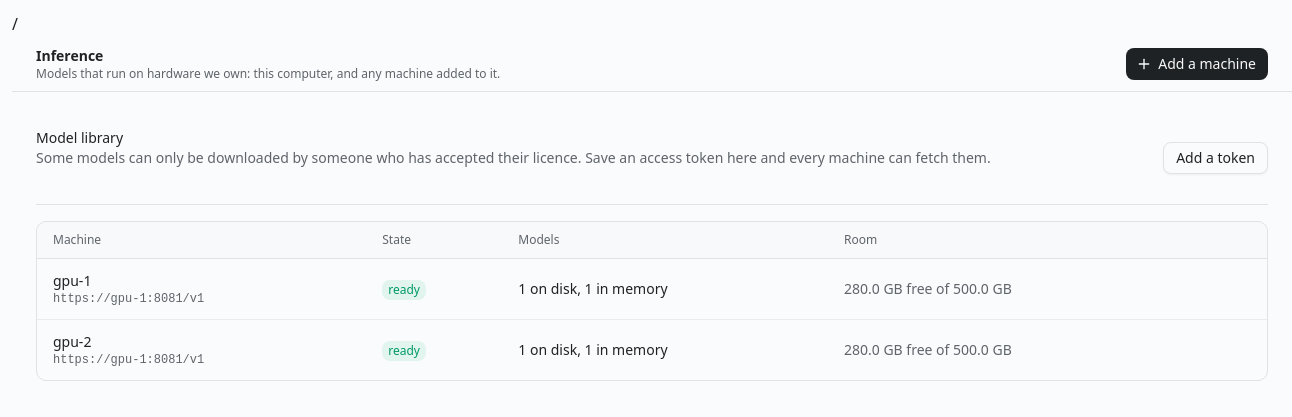
it: machines › marks a model no workspace may use yet
Click the text "gpu-1" at (72, 280), box [53,271,91,290]
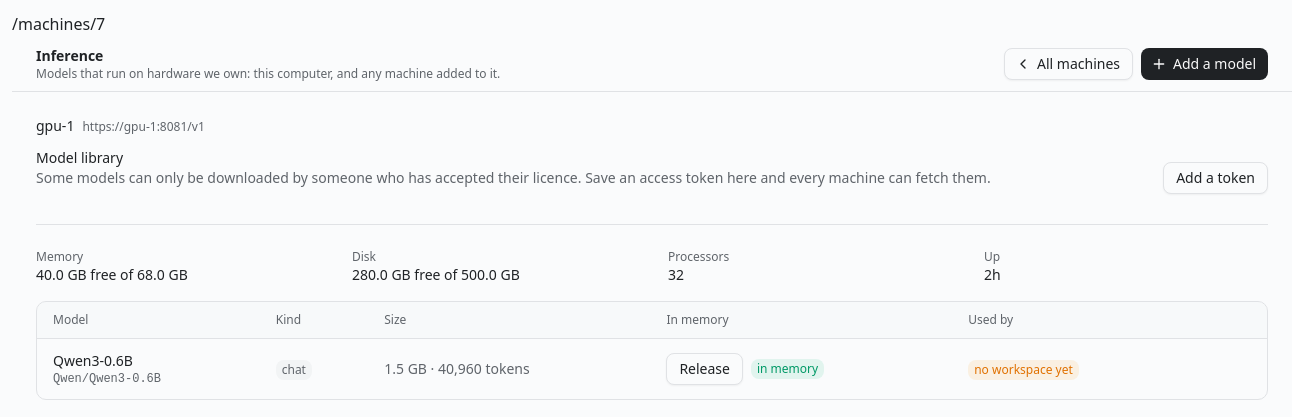
Expected: the text "no workspace yet" is shown, [968,360,1079,380]
